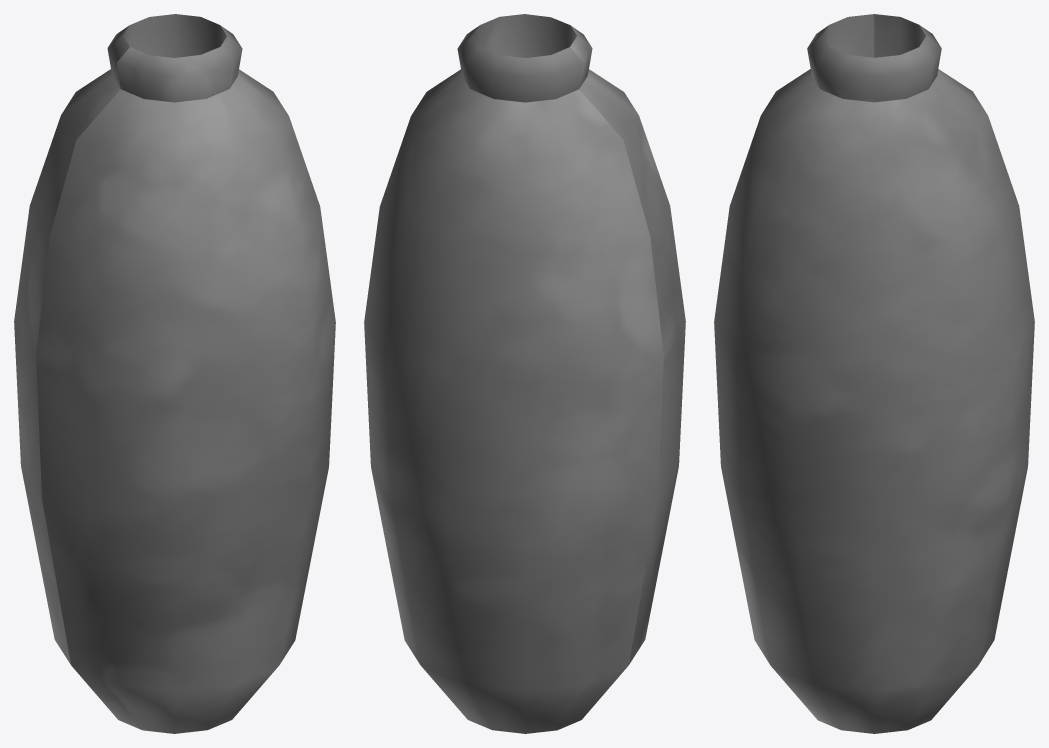
The model's file is SM_TerraPots_01f.fbx.
3 views of the same model, side by side, from view 1: azimuth 30°, elevation 25°; view 2: azimuth 150°, elevation 25°; view 3: azimuth 270°, elevation 25° (orthographic).
Parts seen in each view (by area): view 1: SM_TerraPots_01f_LOD0; view 2: SM_TerraPots_01f_LOD0; view 3: SM_TerraPots_01f_LOD0.
Boxes of the visible parts, x1,y1,x2,y2 form: SM_TerraPots_01f_LOD0: [14, 14, 335, 733]; SM_TerraPots_01f_LOD0: [364, 14, 685, 733]; SM_TerraPots_01f_LOD0: [714, 14, 1034, 733].
Bounding box in the file's own units: 10.96 × 10.96 × 25.27.
